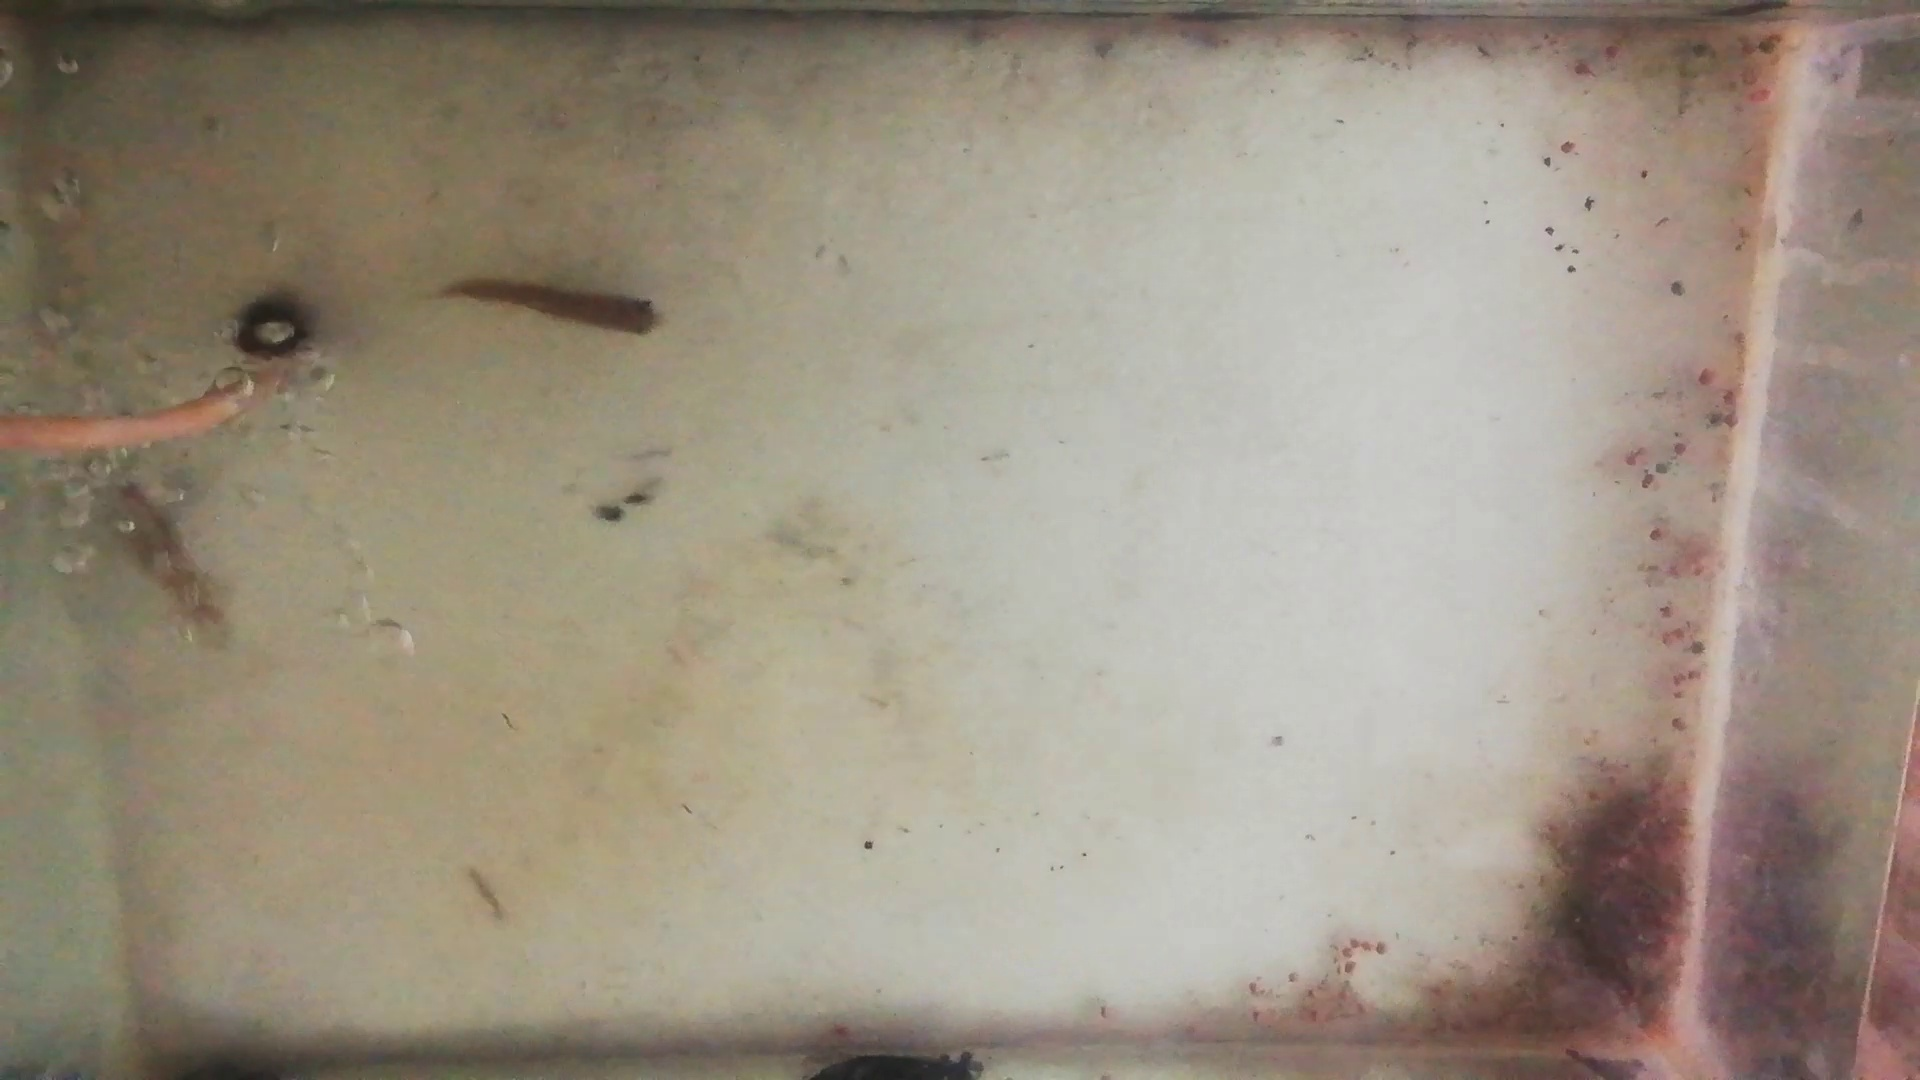fish: (107, 465, 214, 628), (444, 282, 659, 338)
